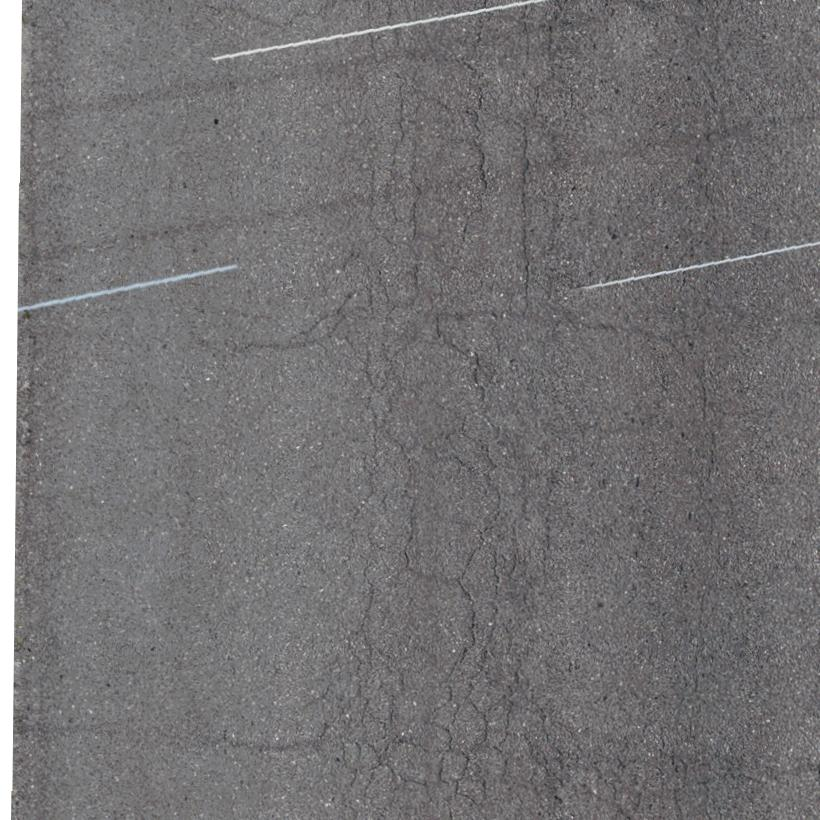GRIETA: (568, 319, 690, 365), (197, 338, 316, 354), (699, 431, 715, 487), (700, 376, 713, 419)
PIEL DE COCODRILO: (292, 0, 766, 819), (658, 0, 748, 119)
